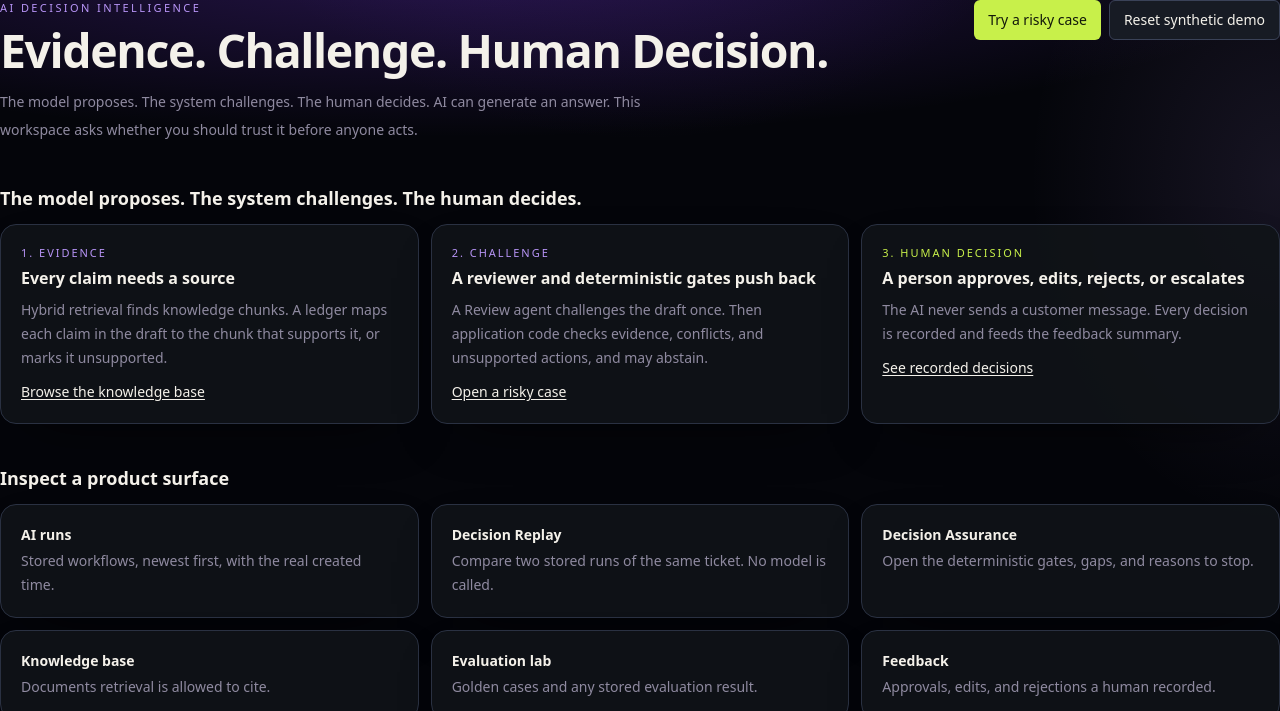
Test case: DashboardPage › requires confirmation in a dialog before resetting demo data
Click the button with test id "reset-demo": coordinates (1194, 20) [1109, 0, 1279, 40]
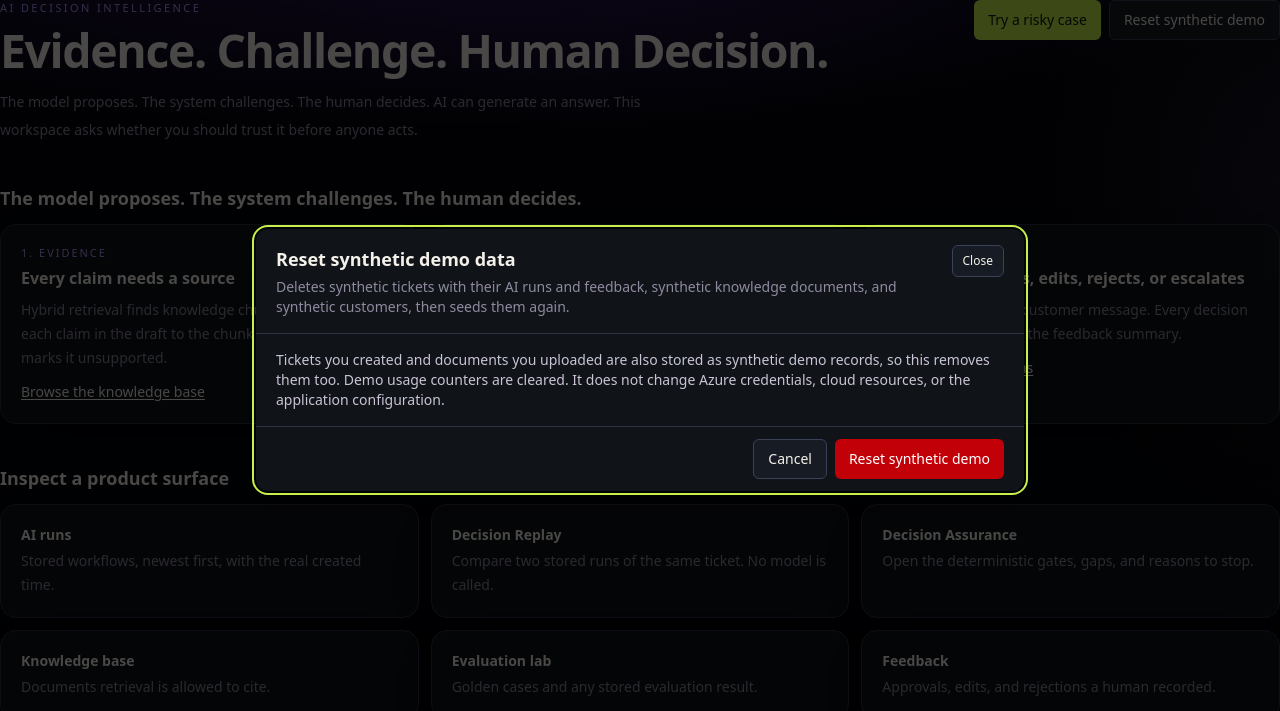
Expected: the dialog "Reset synthetic demo data" is shown, [256, 229, 1024, 491]
Click the button with test id "confirm-reset-demo": coordinates (919, 459) [835, 439, 1004, 479]
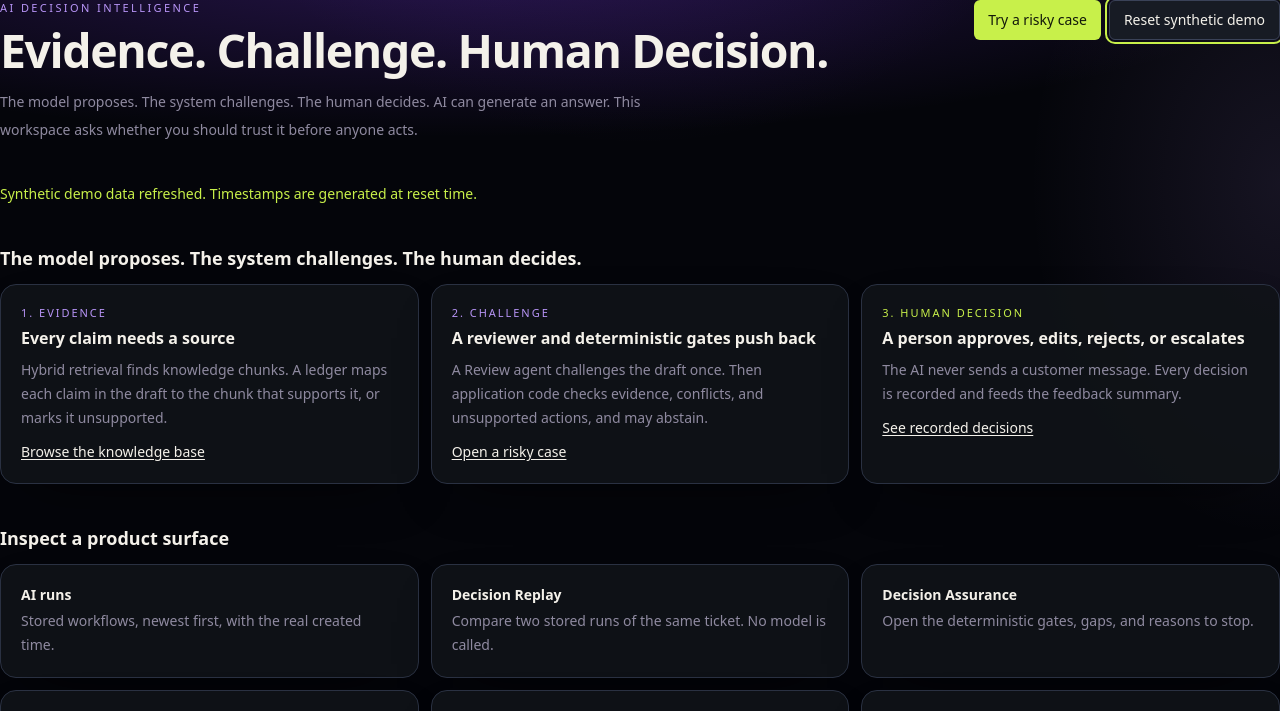
Expected: the message "Synthetic demo data refreshed. Timestamps are generated at reset time." is shown, [0, 184, 477, 204]
